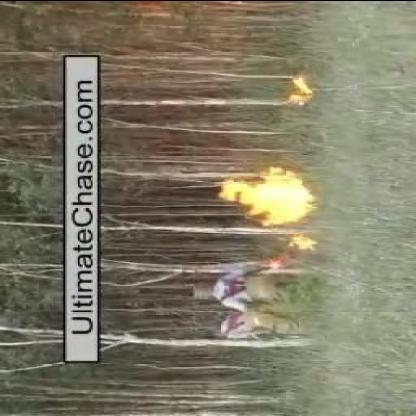foggia-v2-map80-epoch100 - v1 4323: (224, 166, 316, 226), (288, 76, 314, 106), (291, 233, 317, 250)
